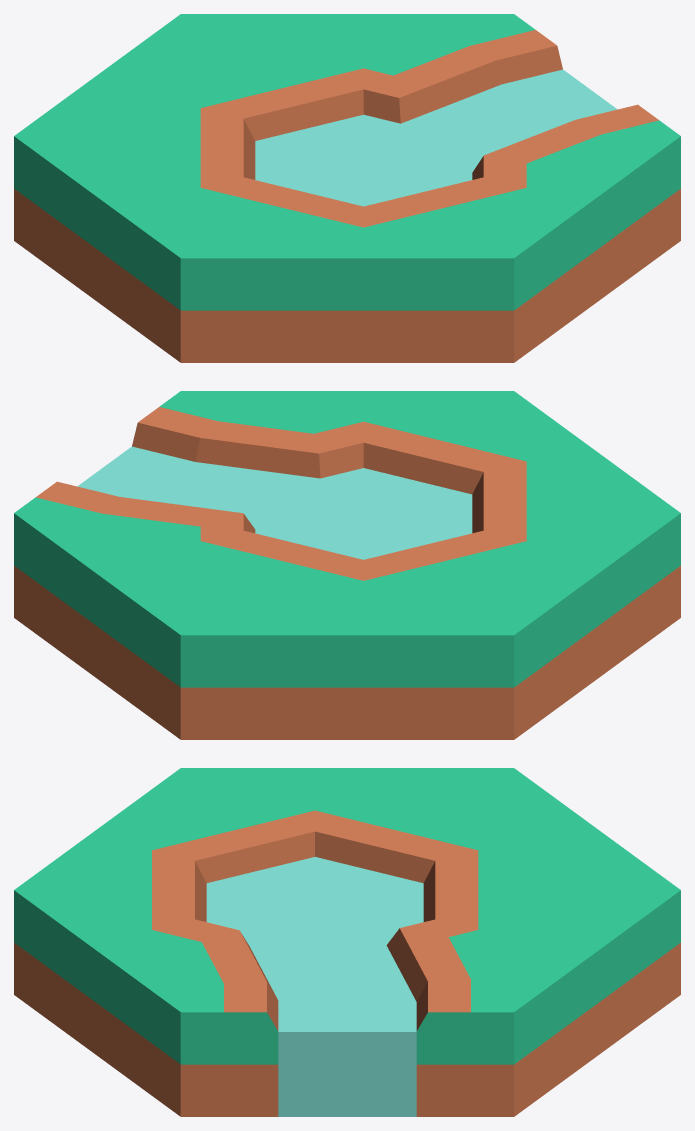
File: River Start.glb
3 views of the same model, one above another, from view 1: azimuth 30°, elevation 25°; view 2: azimuth 150°, elevation 25°; view 3: azimuth 270°, elevation 25° (orthographic).
Parts seen in each view (by area): view 1: river_start; view 2: river_start; view 3: river_start.
Part boxes in pixels (bbox=[...]): river_start: bbox=[14, 14, 680, 362]; river_start: bbox=[14, 391, 680, 739]; river_start: bbox=[14, 768, 680, 1116].
Bounding box in the file's own units: 1 × 0.2 × 1.15.
